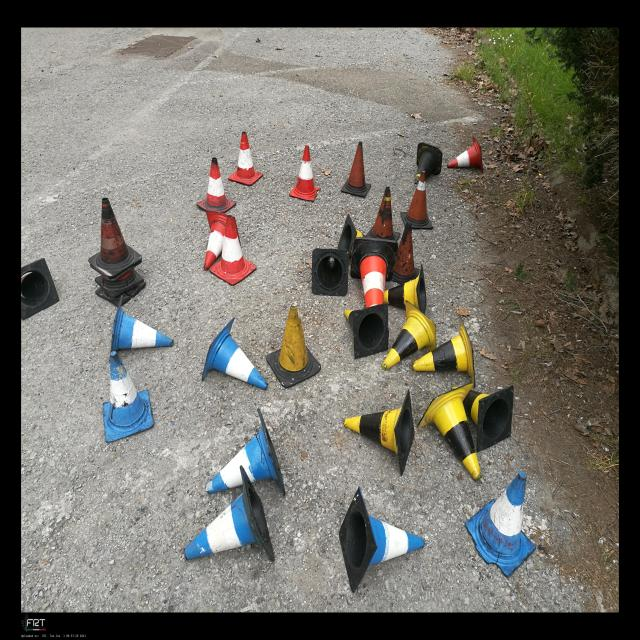blue_cone: (339, 487, 424, 593), (184, 465, 275, 561), (466, 472, 536, 578), (206, 409, 286, 496), (202, 318, 268, 390), (103, 351, 154, 442), (110, 296, 174, 360)
large_orange_cone: (350, 237, 398, 307)
orange_cone: (210, 214, 256, 286), (203, 210, 241, 271), (196, 158, 236, 214), (228, 132, 263, 185), (289, 145, 321, 201), (447, 136, 483, 174)
unknown_cone: (266, 302, 321, 388), (88, 198, 142, 277), (21, 258, 60, 320), (401, 170, 434, 230), (366, 186, 400, 241), (392, 220, 420, 284), (312, 248, 349, 296), (341, 142, 371, 198), (414, 142, 442, 187)
yellow_cone: (417, 382, 482, 481), (344, 390, 414, 476), (412, 316, 476, 388), (451, 385, 514, 452), (382, 300, 436, 370), (345, 303, 389, 359), (384, 264, 426, 314), (338, 214, 366, 255)
